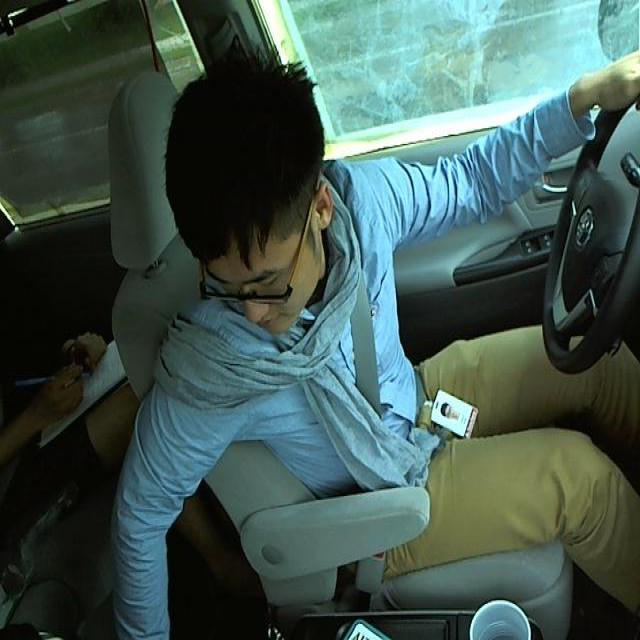seatbelt: (346, 281, 405, 440)
